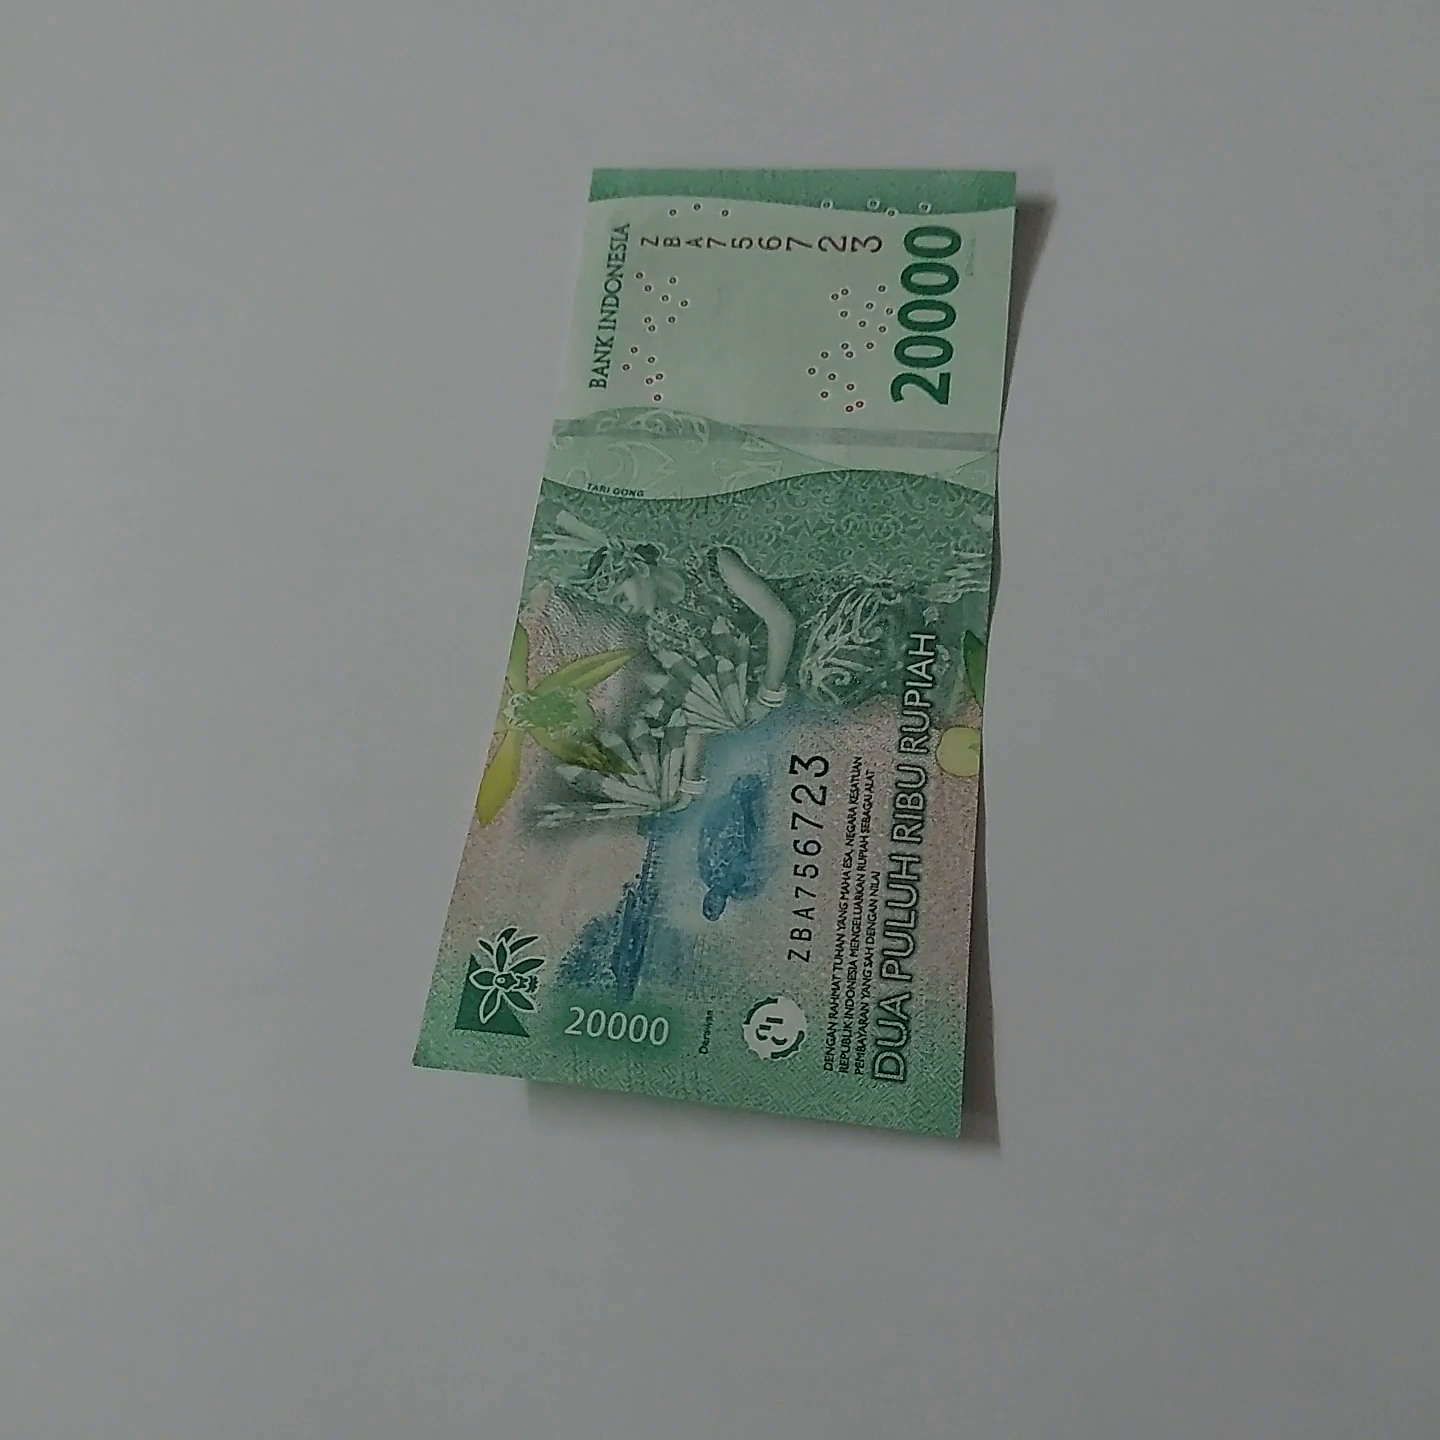20k: (409, 144, 1071, 1160)
